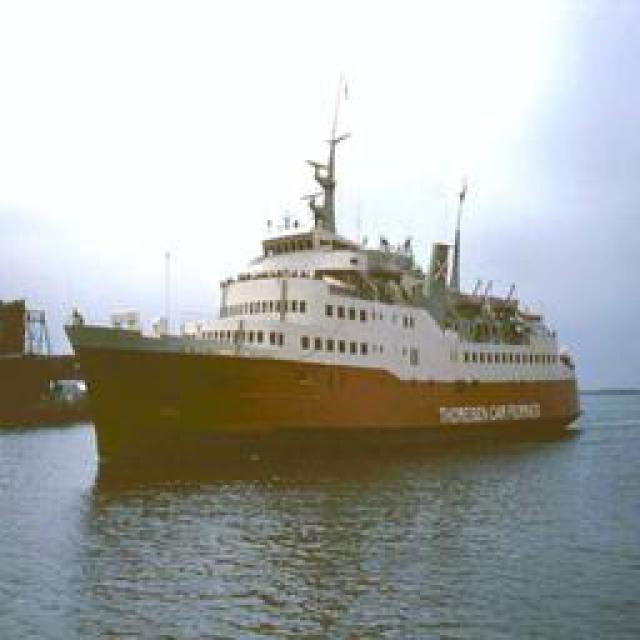Ship: (69, 45, 579, 448)
